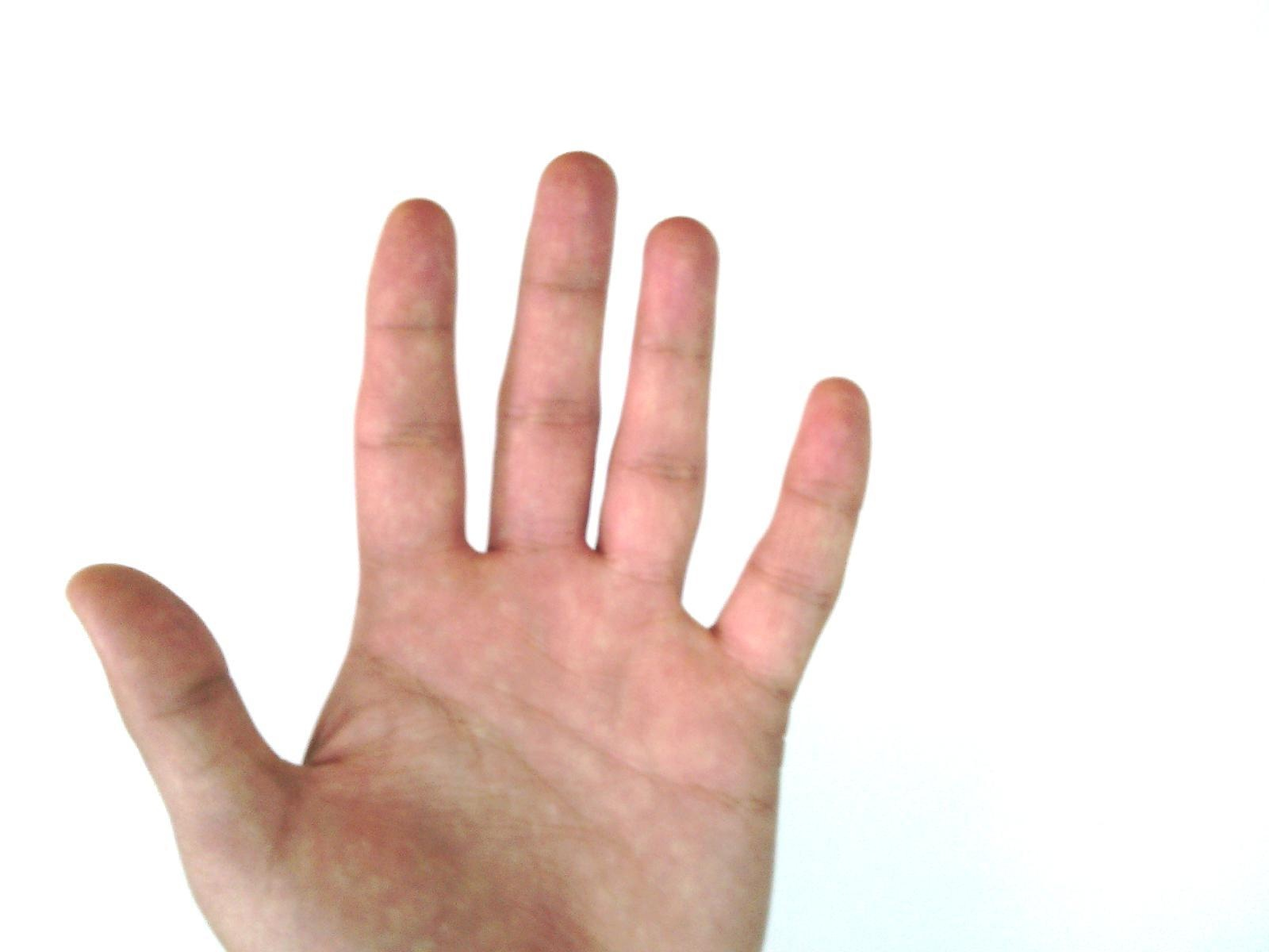open_palm: (65, 150, 876, 951)
